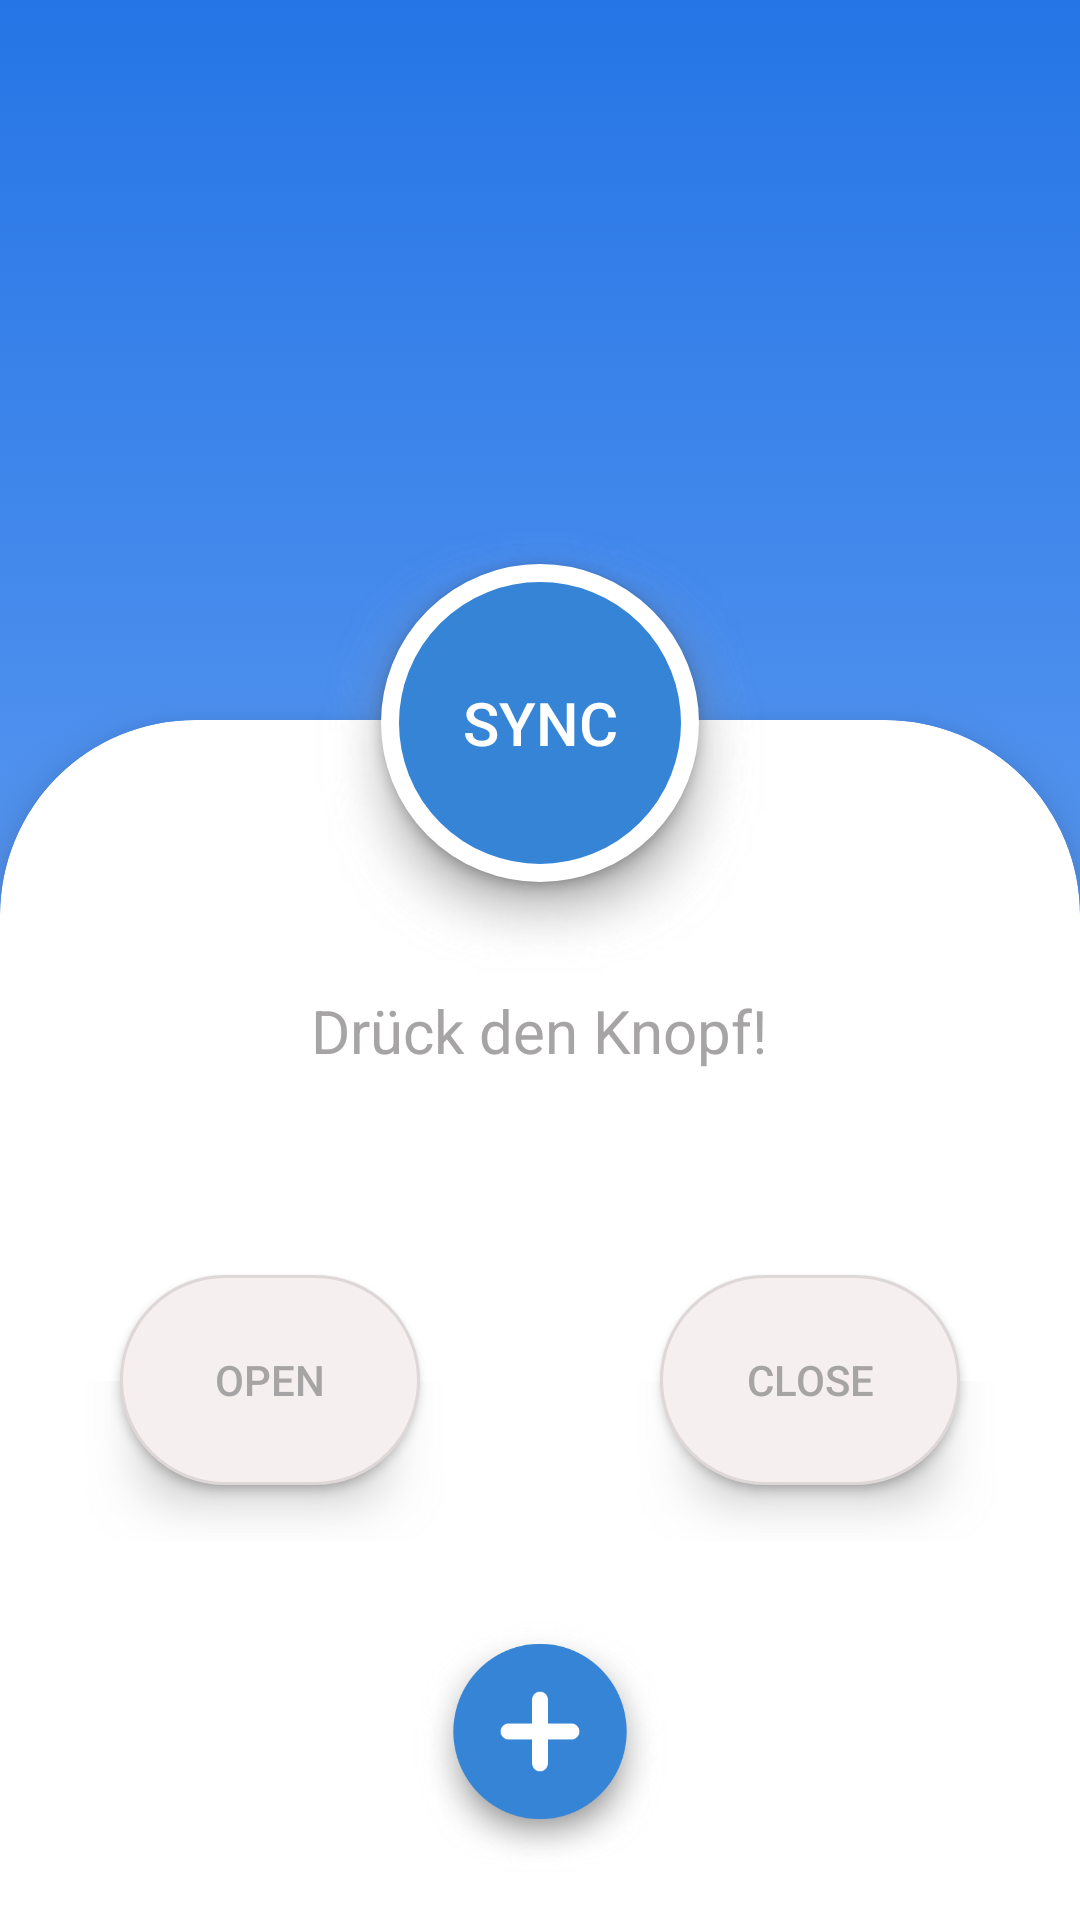

Point at icon controls on the screen. Image size 1080px×1920px, points as (x=x, y=y).
plus: (x=540, y=1742)
